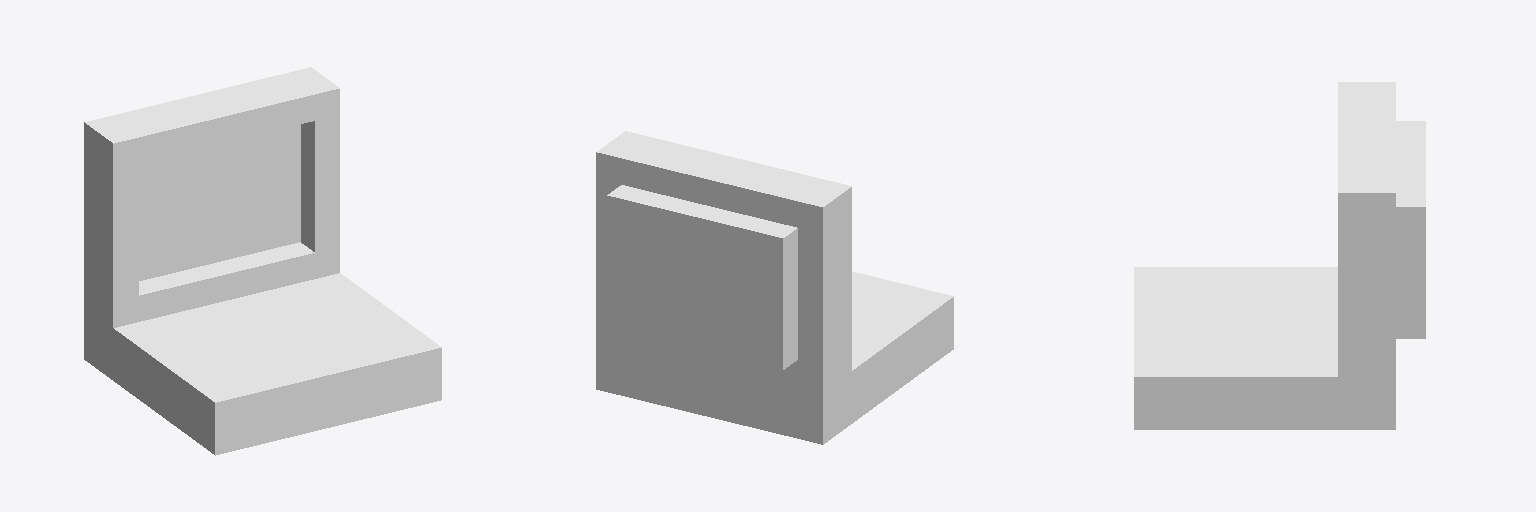
Rendered from Laptop.obj.
3 renders of one model, left to right at view 1: azimuth 30°, elevation 25°; view 2: azimuth 150°, elevation 25°; view 3: azimuth 270°, elevation 25°, orthographic.
Parts seen in each view (by area): view 1: object 1; view 2: object 1; view 3: object 1.
Boxes of the visible parts, x1,y1,x2,y2 form: object 1: [84, 67, 441, 455]; object 1: [596, 131, 953, 444]; object 1: [1134, 82, 1425, 429].
Size of the model in its own units: 0.9 by 0.9 by 1.